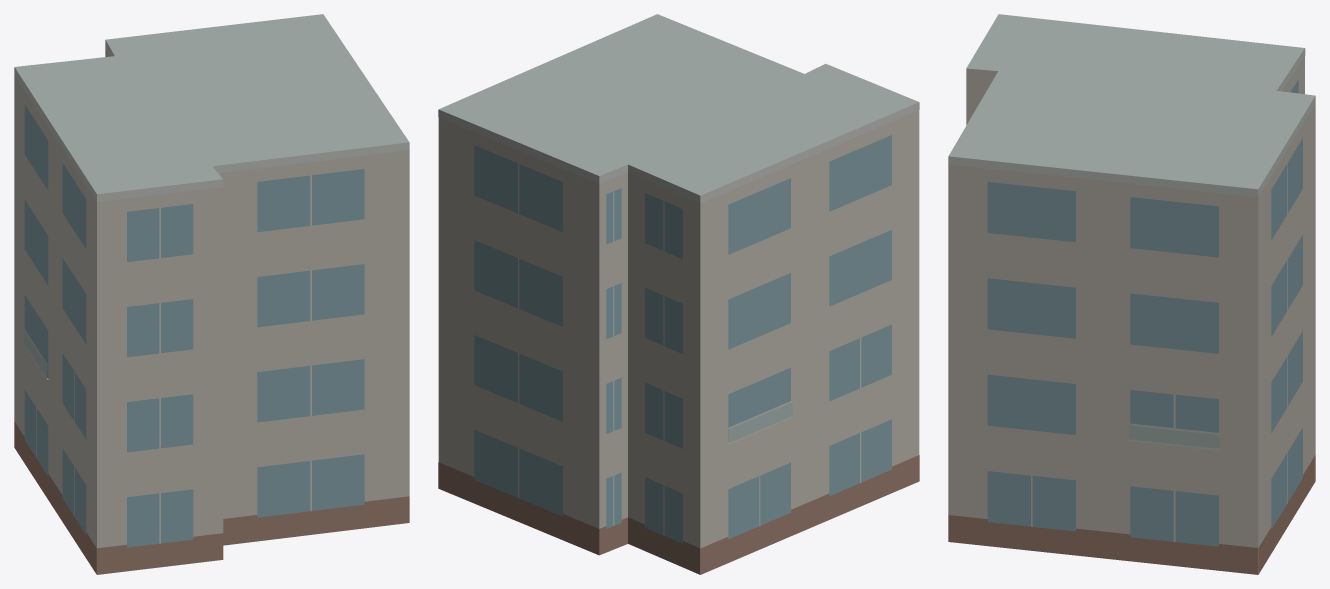
Rendered from survey-upis-33018212.glb.
The picture shows the model from 3 angles, left to right: view 1: azimuth 30°, elevation 25°; view 2: azimuth 150°, elevation 25°; view 3: azimuth 270°, elevation 25°; orthographic projection.
Visible parts, largest first — view 1: survey-upis-33018212.tmp; view 2: survey-upis-33018212.tmp; view 3: survey-upis-33018212.tmp.
Boxes of the visible parts, left/top/right/bottom form: survey-upis-33018212.tmp: left=14, top=14, right=409, bottom=574; survey-upis-33018212.tmp: left=438, top=14, right=919, bottom=574; survey-upis-33018212.tmp: left=948, top=14, right=1315, bottom=574.
Size of the model in its own units: 11.56 by 11.85 by 10.24.
